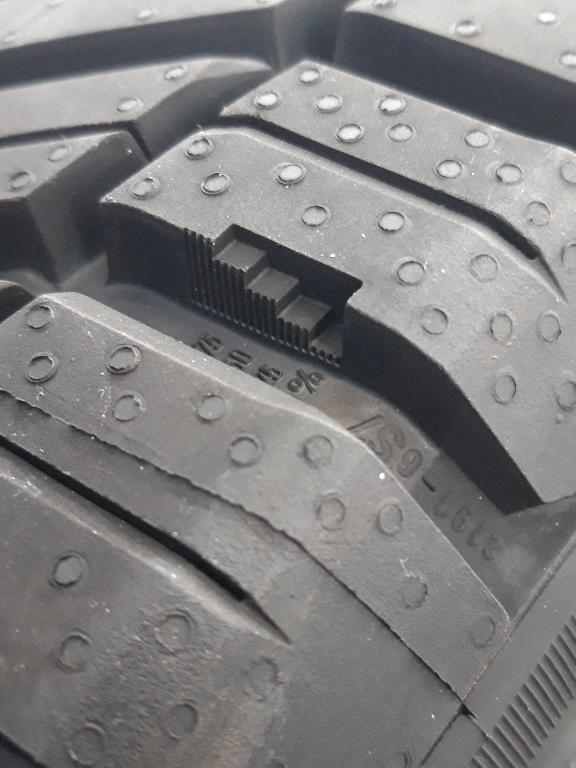temoin:100: (168, 209, 373, 380)
